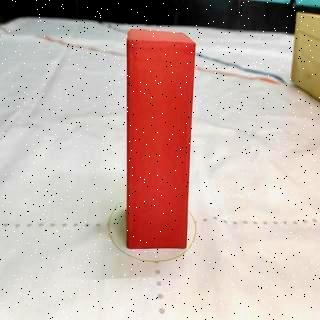redbox: (127, 30, 196, 248)
